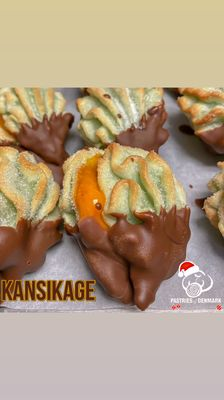soup: (59, 143, 192, 310)
